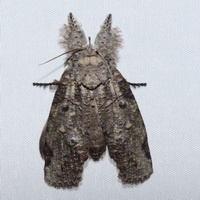insect: (38, 13, 152, 187)
